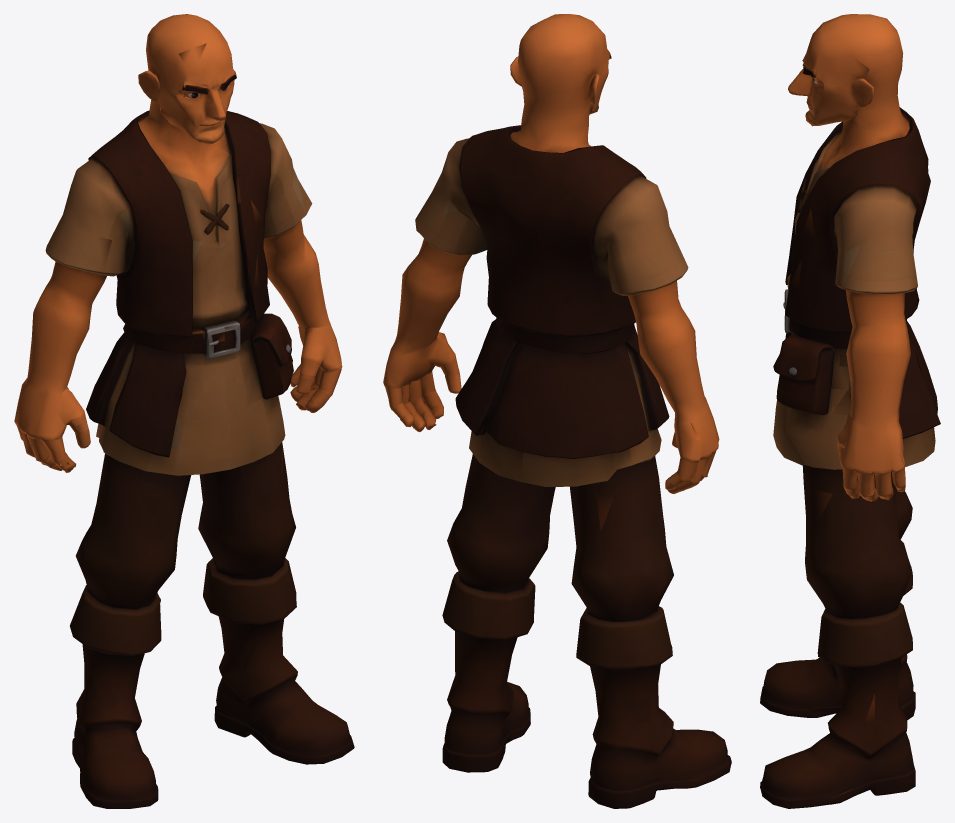
Rendered from koerper.glb.
The picture shows the model from 3 angles, left to right: view 1: azimuth 30°, elevation 25°; view 2: azimuth 150°, elevation 25°; view 3: azimuth 270°, elevation 25°; orthographic projection. The views are drawn at different scales.
Parts seen in each view (by area): view 1: koerper; view 2: koerper; view 3: koerper.
Boxes of the visible parts, x1,y1,x2,y2 form: koerper: [14, 14, 354, 808]; koerper: [383, 14, 731, 808]; koerper: [760, 14, 940, 808].
Size of the model in its own units: 0.8034 by 1.8 by 0.4031.
Materials: 1 (1 with a texture image).
